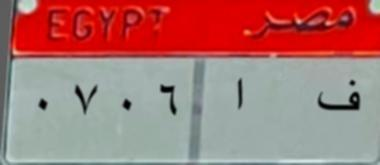0: (112, 92, 144, 124), (29, 88, 54, 125)
6: (151, 80, 191, 122)
7: (64, 82, 104, 118)
alif: (225, 74, 253, 117)
faa: (315, 75, 362, 116)
